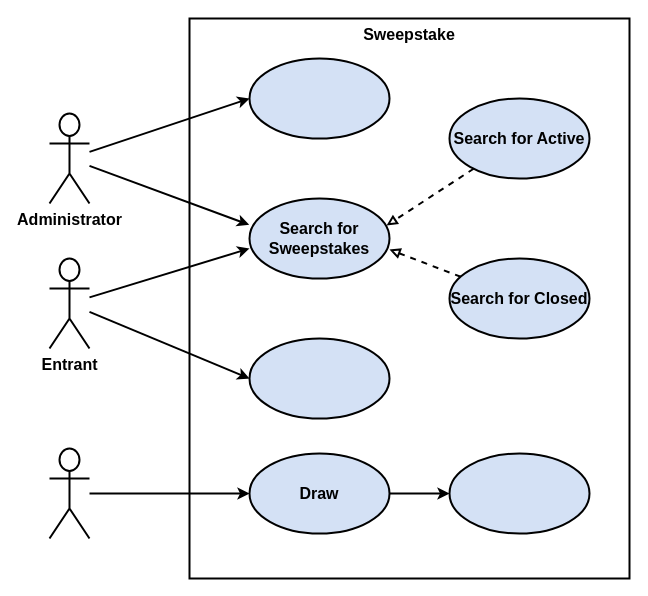
Image size: 648x596. Some labels were removed from this diagram. The centre of each missing label's shape, as x and y in pixels:
Create a Sweepstake: point (319, 98)
Enter on Sweepstake: point (319, 378)
Notify Entrants: point (519, 493)
System: point (69, 493)
